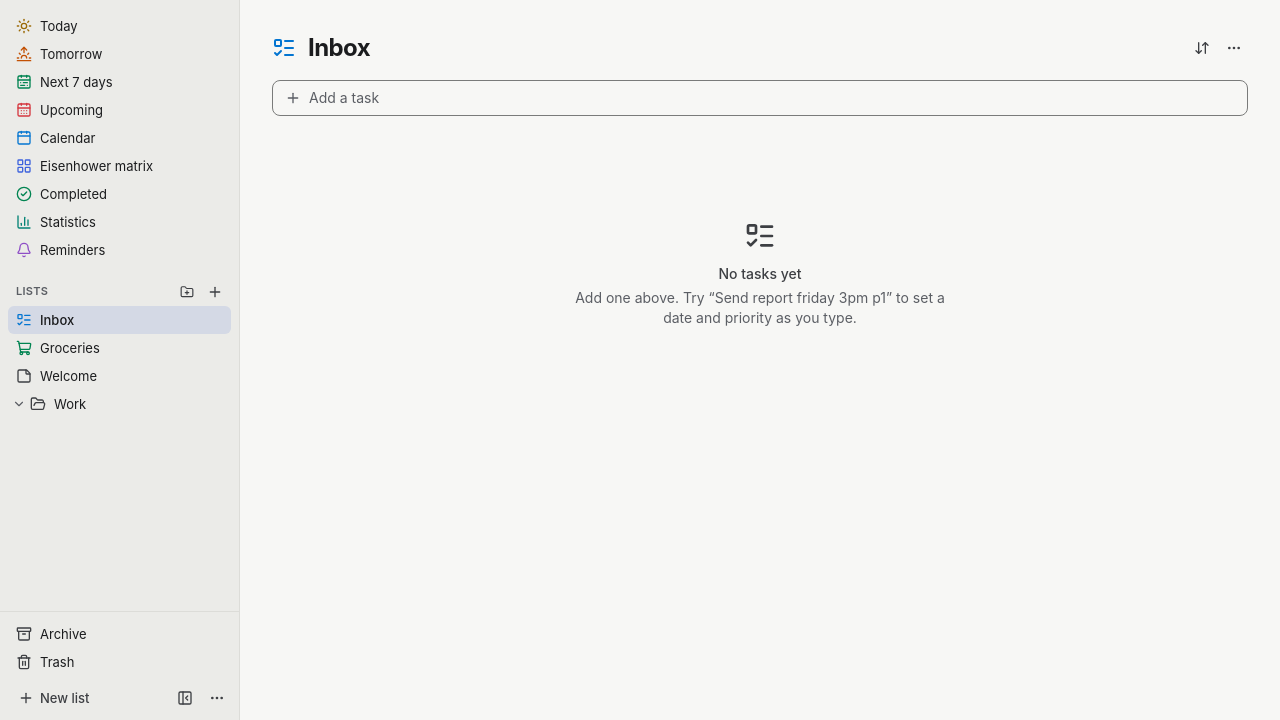
Scenario: hiding the sidebar › hides with its button and comes back with the main pane’s button
The image size is (1280, 720).
Expected: the button "Show sidebar" is not shown
Click the button named "Hide sidebar" at (185, 698), box [171,684,199,712]
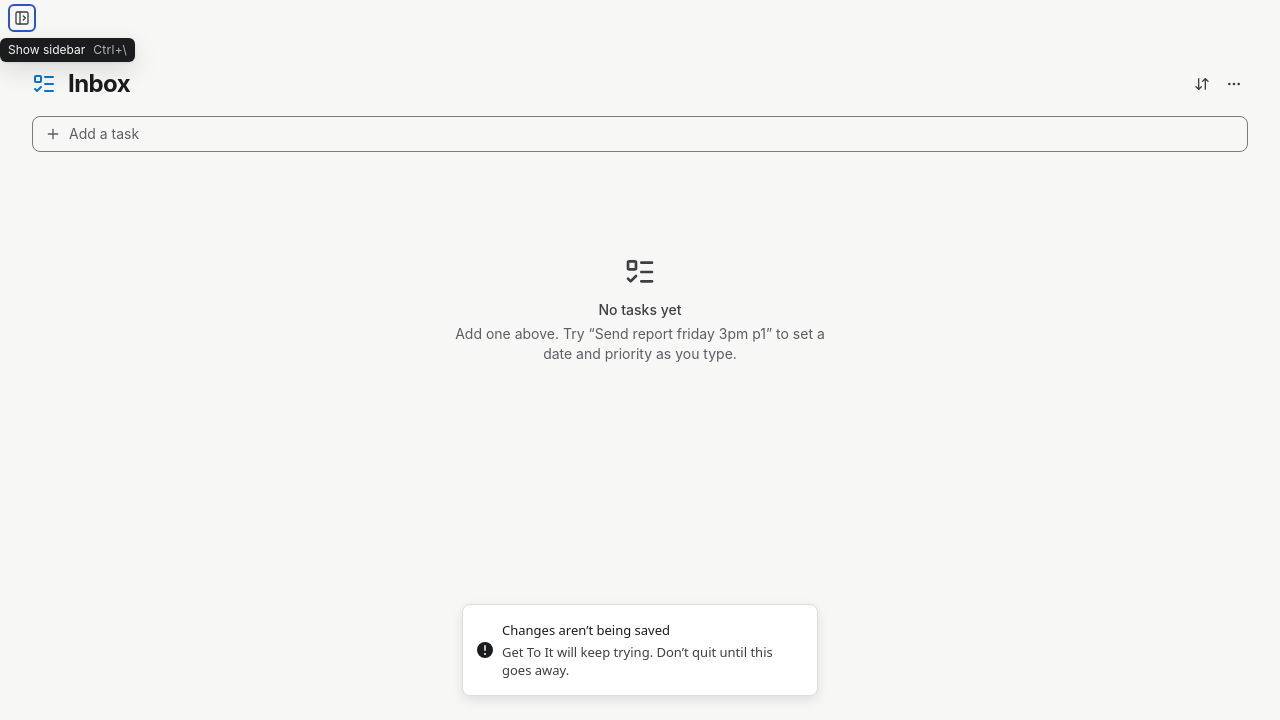
Expected: the field named "List name" is shown, [68,68,1176,100]
Click the button named "Show sidebar" at (22, 18), box [8,4,36,32]
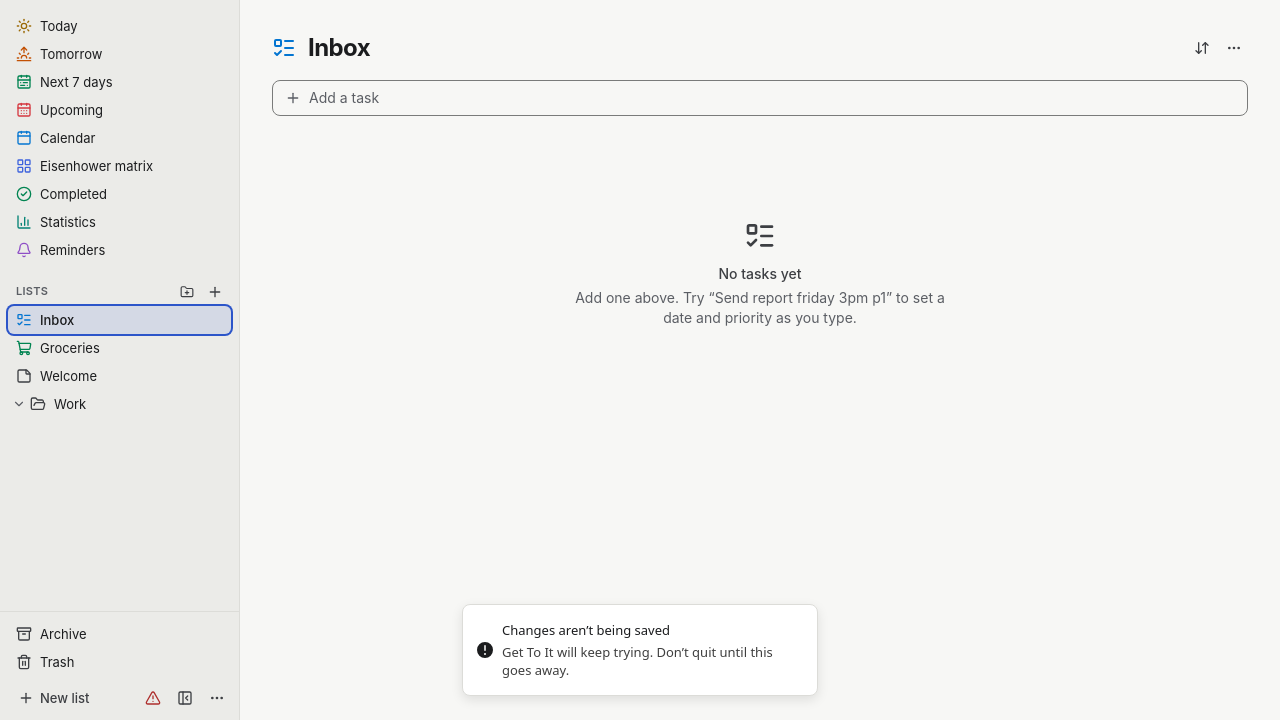
Now the element named "Sidebar" is shown, box [0,0,240,719]
Now the tooltip "Show sidebar" is gone
